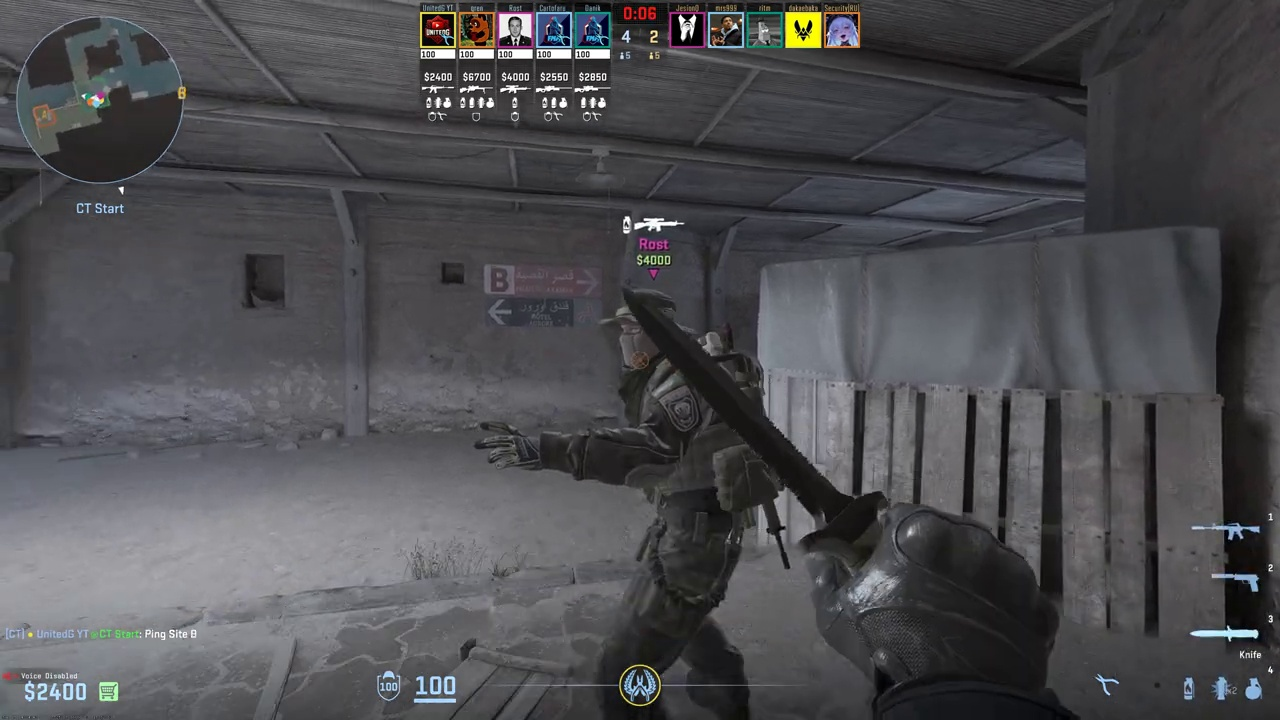CT: (589, 288, 752, 720)
